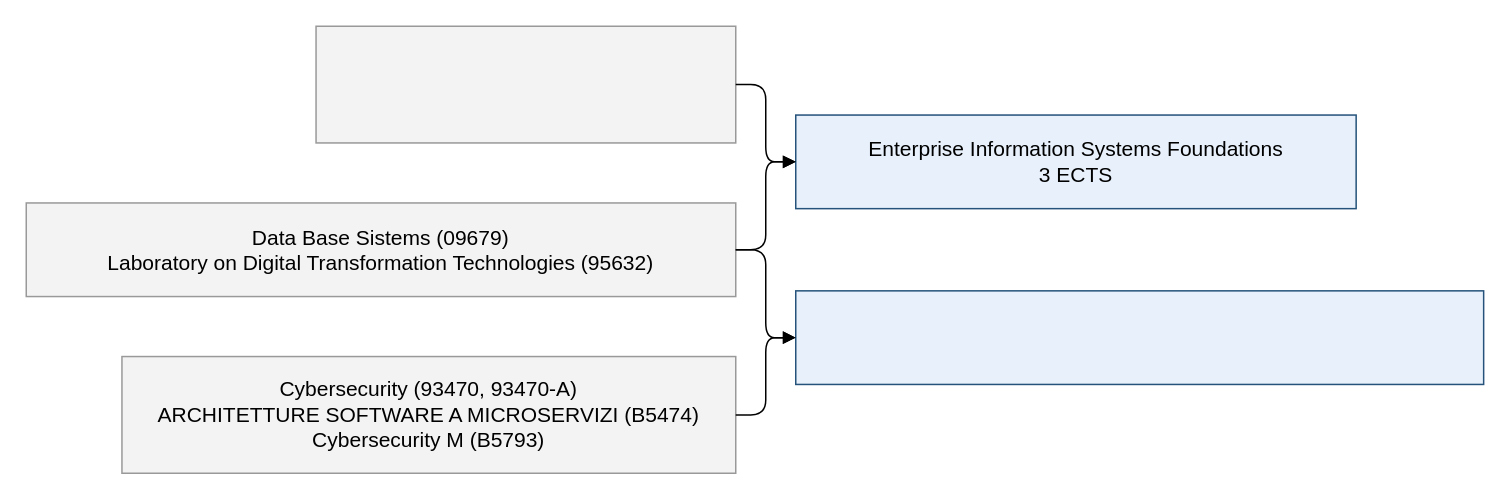
This 1511x500 diagram has some shape labels left out. The shapes that lost their labels are listed below. From the top down, each one's centre as x and y in pixels, then its label:
At pixel 525 84: "Computer Science (07276-C) Software Engineering T (28021) IT Systems T-1 (28652)".
At pixel 1139 336: "Enterprise Information Systems Transformation and Risk 3 ECTS".
